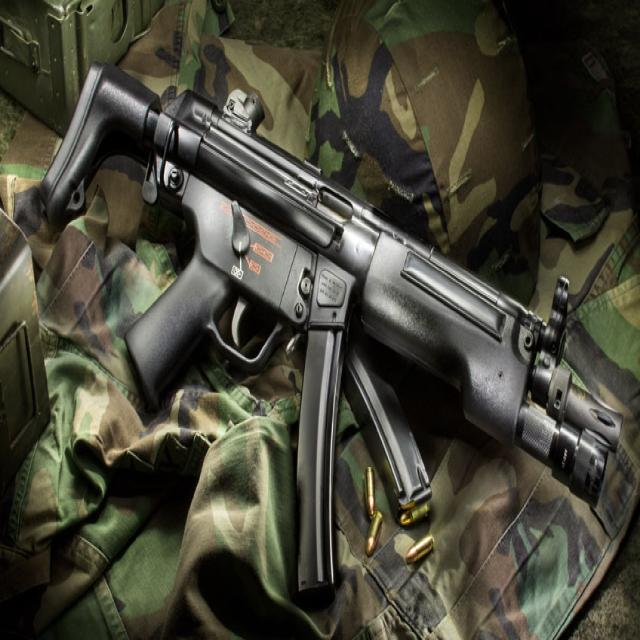SMG: (44, 66, 619, 597)
